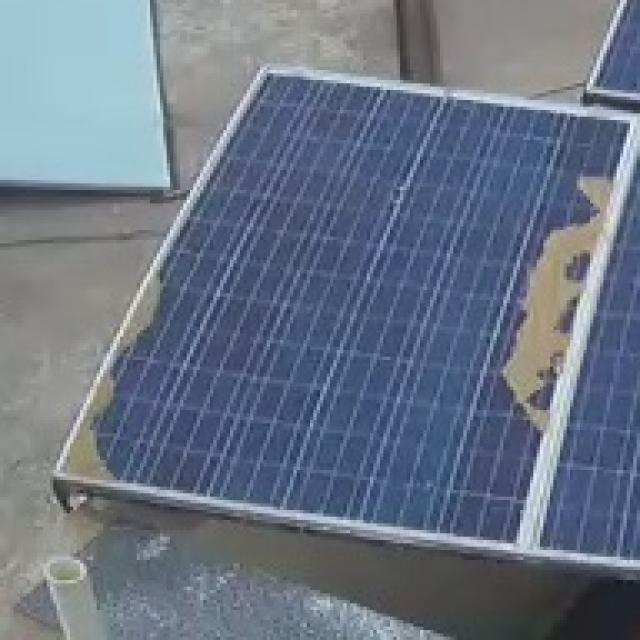Dusty: (502, 265, 566, 397), (537, 214, 602, 262), (578, 173, 613, 206), (77, 438, 100, 475), (98, 381, 120, 414), (136, 297, 156, 327)
